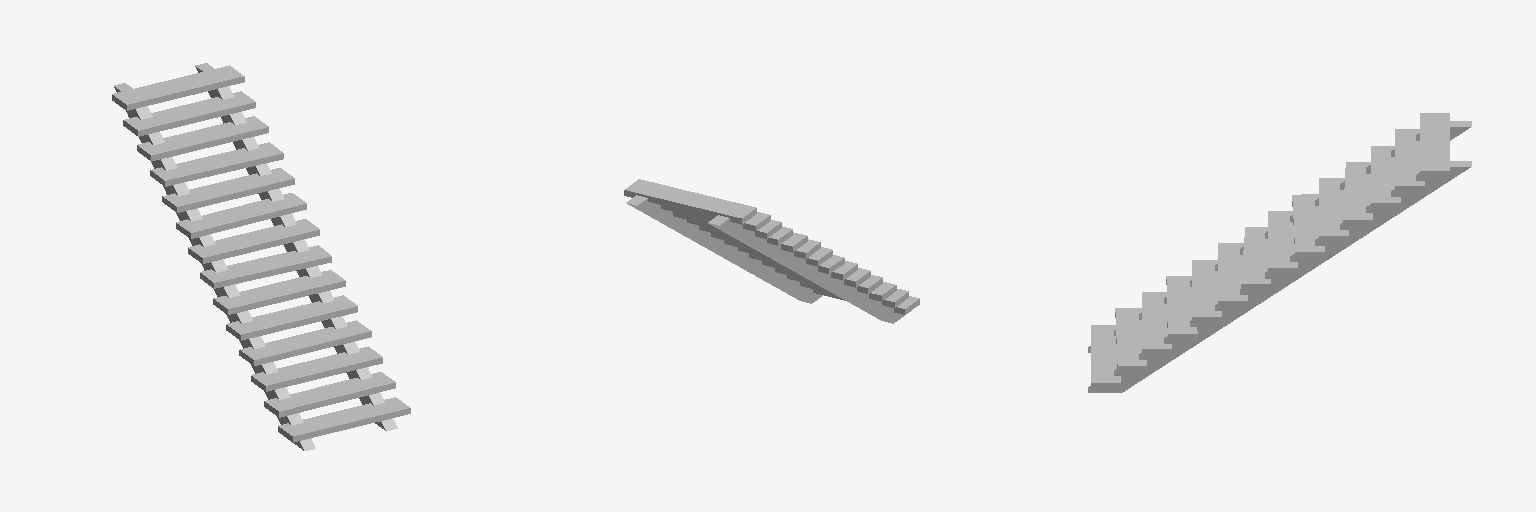
Rendered from Stair_Interior_Simple.obj.
3 views of the same model, side by side, from view 1: azimuth 30°, elevation 25°; view 2: azimuth 150°, elevation 25°; view 3: azimuth 270°, elevation 25° (orthographic).
Parts seen in each view (by area): view 1: Stair_Interior_Simple; view 2: Stair_Interior_Simple; view 3: Stair_Interior_Simple.
Part boxes in pixels (x1,y1,x2,y2): Stair_Interior_Simple: (112, 63, 410, 450); Stair_Interior_Simple: (624, 179, 919, 323); Stair_Interior_Simple: (1088, 113, 1471, 392).
Bounding box in the file's own units: 1.68 × 3.04 × 4.62.